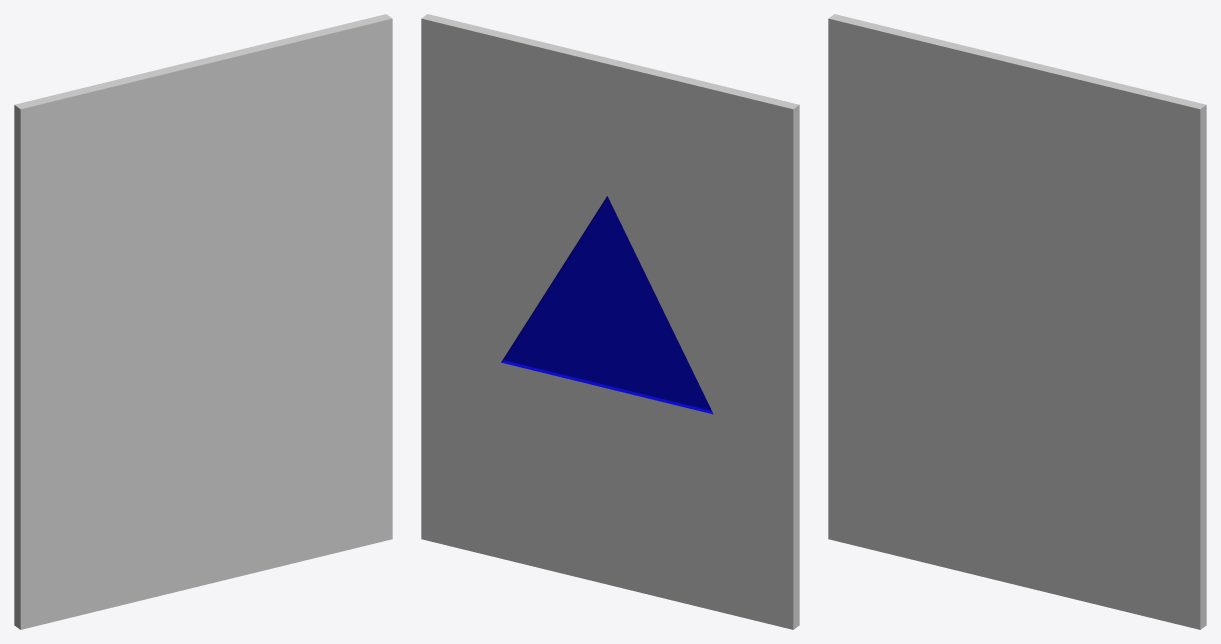
The model's file is blue_triangle.dae.
3 renders of one model, left to right at view 1: azimuth 30°, elevation 25°; view 2: azimuth 150°, elevation 25°; view 3: azimuth 330°, elevation 25°, orthographic.
Visible parts, largest first — view 1: ShapeIndexedFaceSet; view 2: ShapeIndexedFaceSet; view 3: ShapeIndexedFaceSet.
Boxes of the visible parts, x1=… form: ShapeIndexedFaceSet: x1=14, y1=14, x2=392, y2=629; ShapeIndexedFaceSet: x1=421, y1=14, x2=799, y2=629; ShapeIndexedFaceSet: x1=828, y1=14, x2=1206, y2=629.
Size of the model in its own units: 1.75 by 0.0508 by 2.34.
